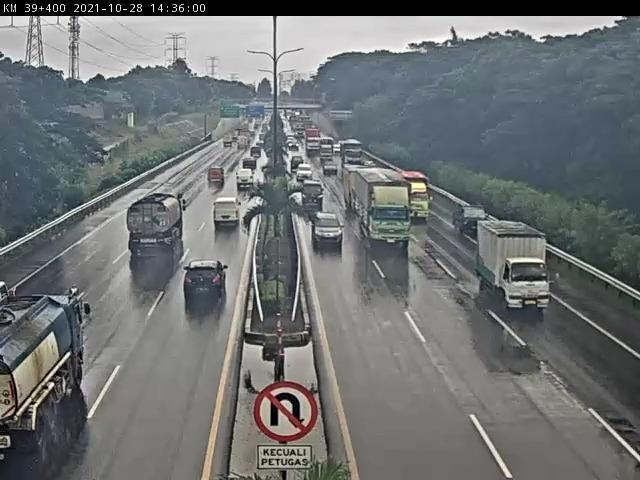car: (181, 254, 234, 306), (212, 196, 243, 242), (312, 205, 344, 245), (457, 201, 483, 238), (406, 182, 432, 218), (297, 182, 330, 208), (210, 168, 225, 195), (243, 175, 259, 197), (323, 161, 340, 174), (244, 158, 258, 170), (302, 164, 310, 179), (295, 156, 303, 167)
truck: (2, 294, 93, 457), (476, 221, 550, 310), (353, 172, 417, 244), (134, 196, 181, 270)
